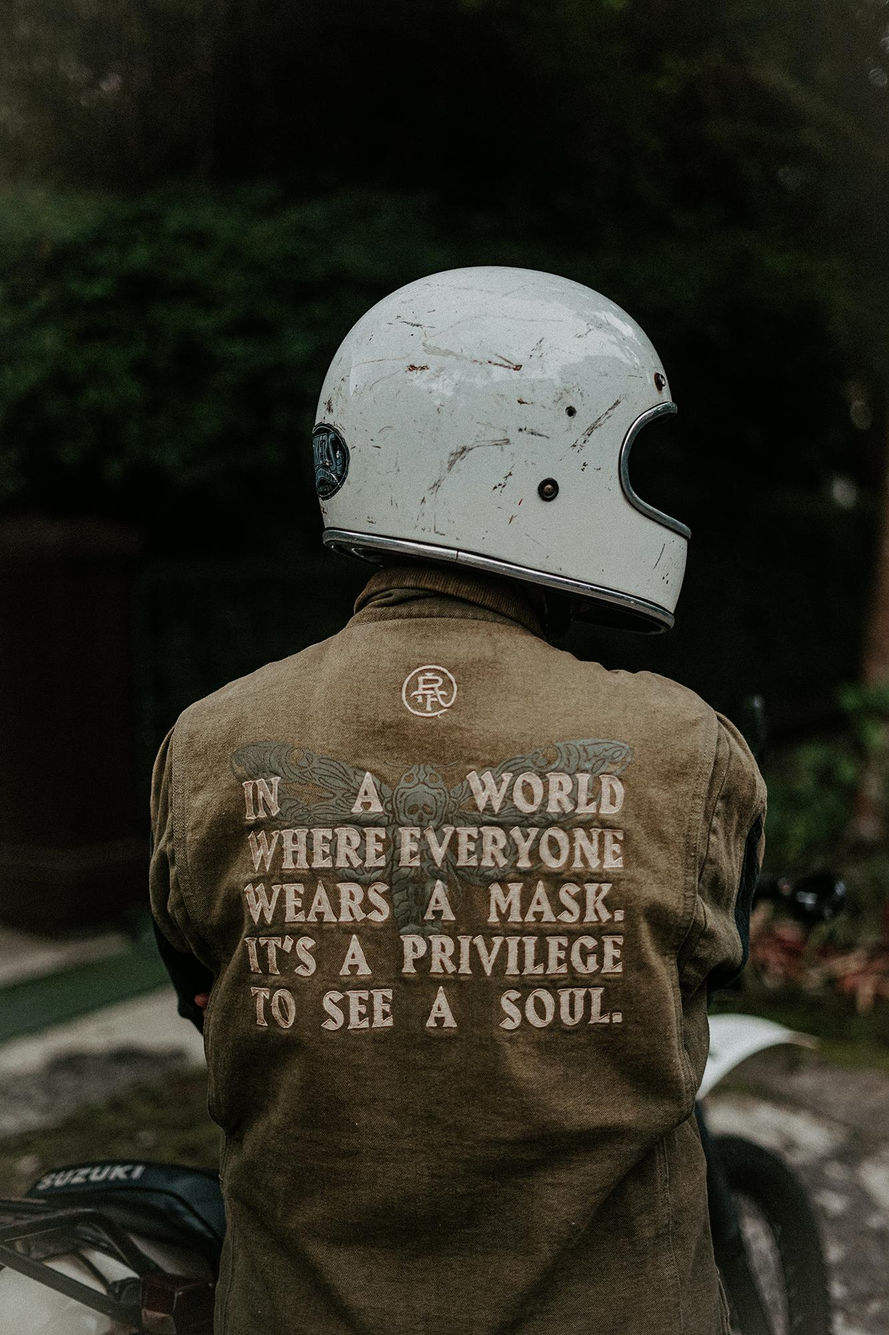helmet: (310, 263, 694, 639)
